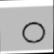no answer: (20, 16, 48, 47)
